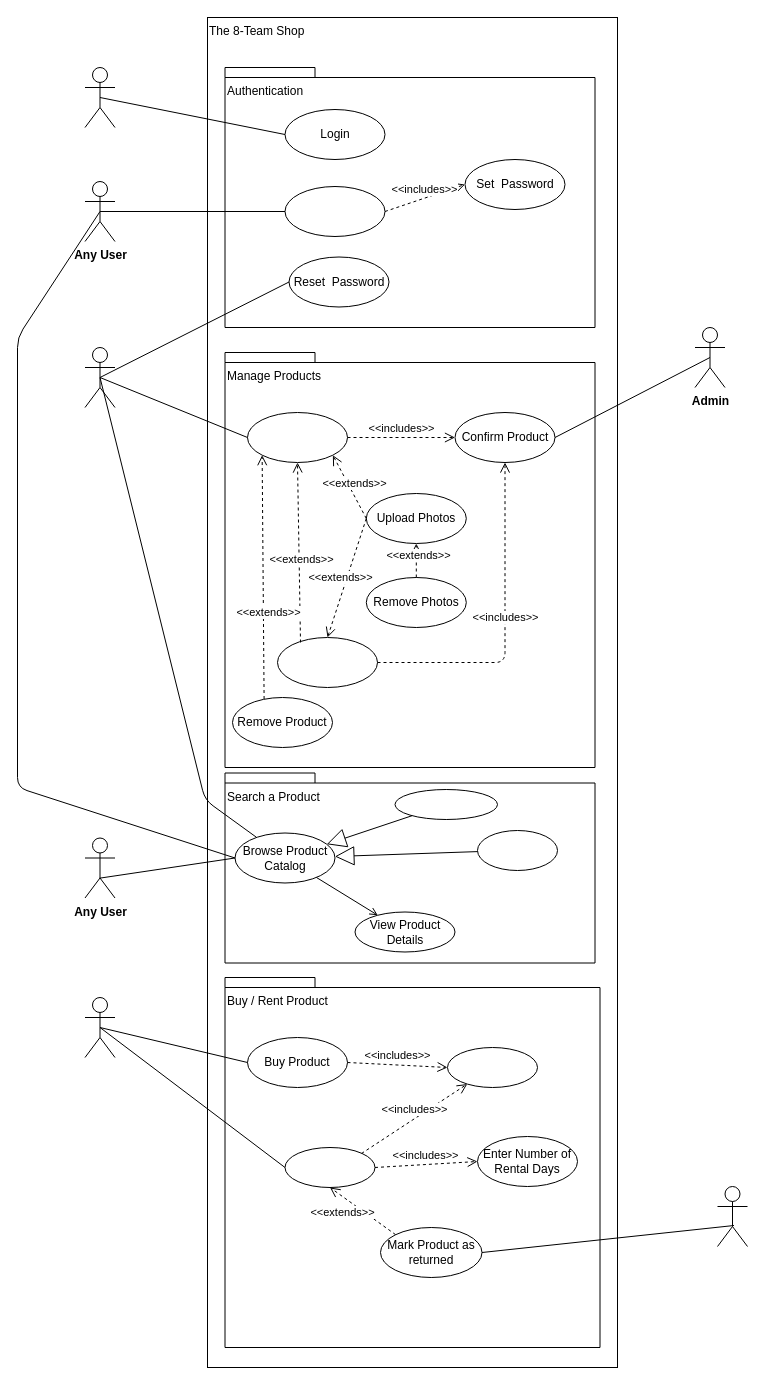
This 784x1385 diagram has some shape labels left out. Here are the shapes that lost their labels. From the top down, the centre of each, then its label:
[99,97]: Registered User
[334,211]: Register
[99,377]: Logged in User
[297,437]: Create Product
[327,662]: Update Product
[446,804]: Search by Filter
[517,850]: Search by Keyword
[99,1027]: Logged in Purchasing User
[492,1067]: Pay
[329,1167]: Rent Product
[732,1216]: Logged in Selling user
